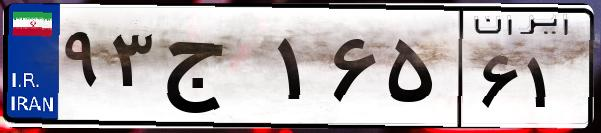1: (270, 28, 330, 110), (525, 38, 570, 115)
3: (110, 28, 158, 98)
5: (385, 28, 445, 110)
6: (330, 28, 385, 110), (475, 38, 525, 113)
9: (57, 26, 110, 100)
ج: (158, 20, 270, 120)
